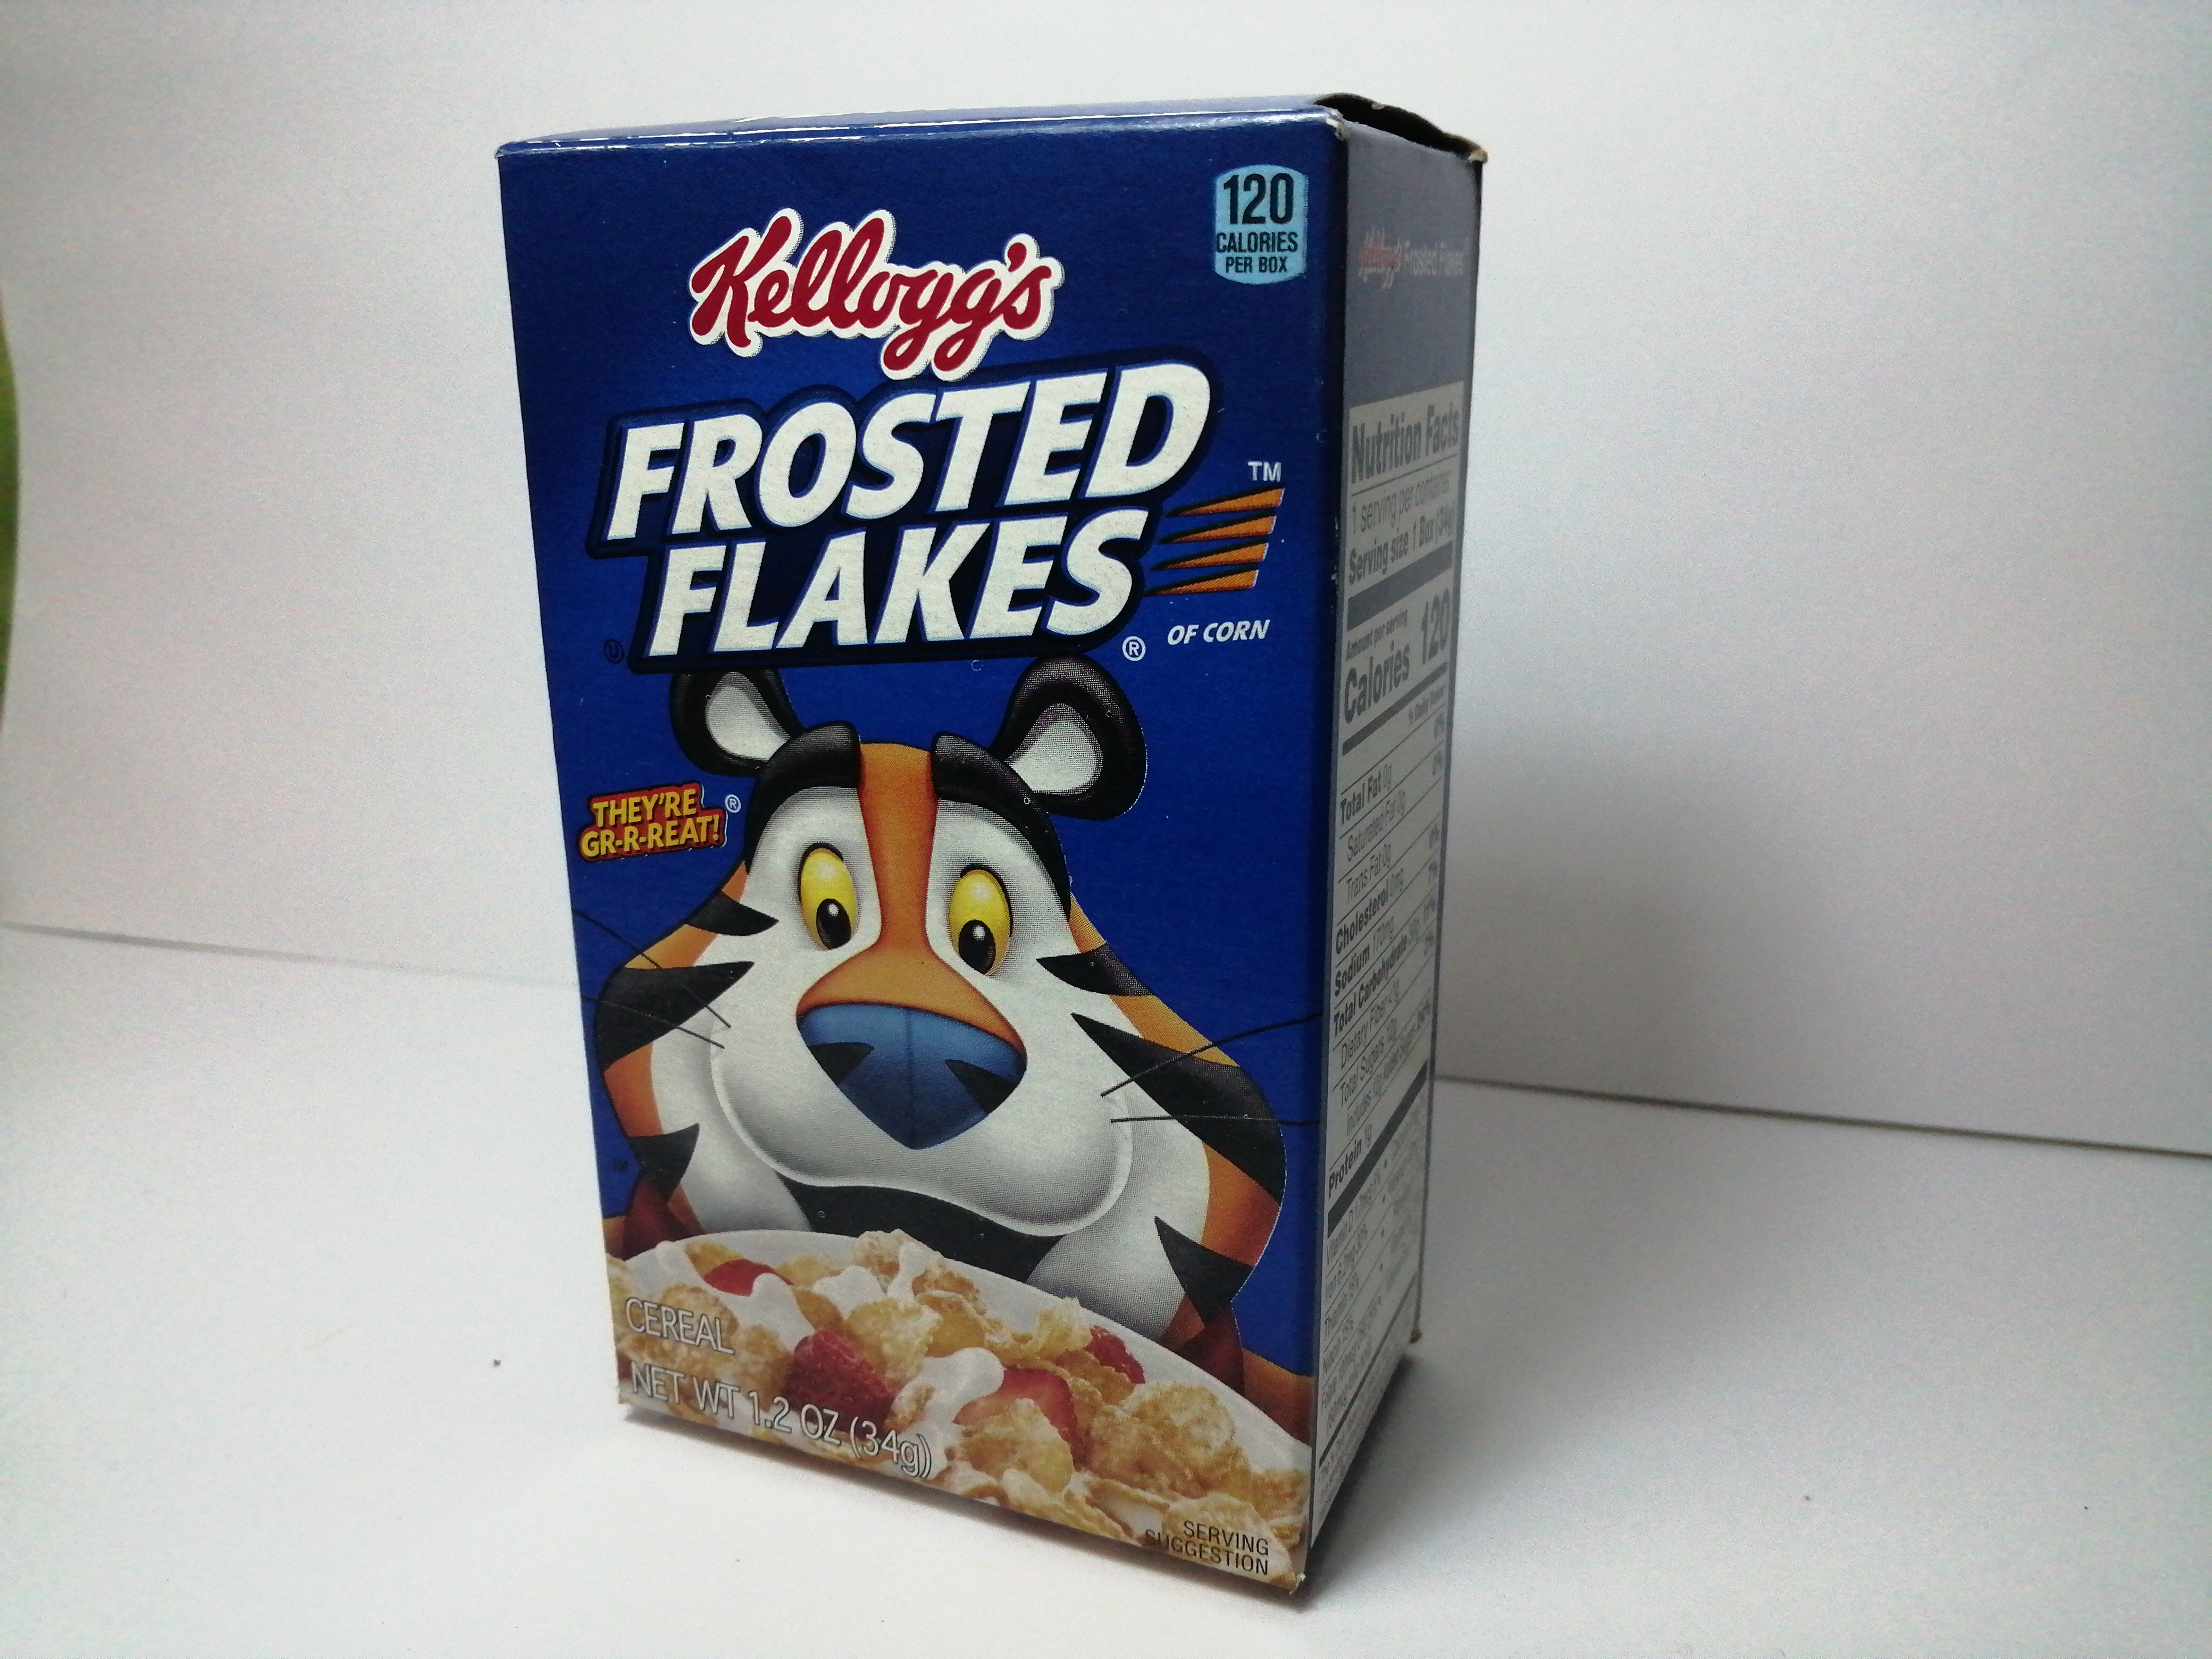cereal azucarado: (455, 64, 1599, 1608)
